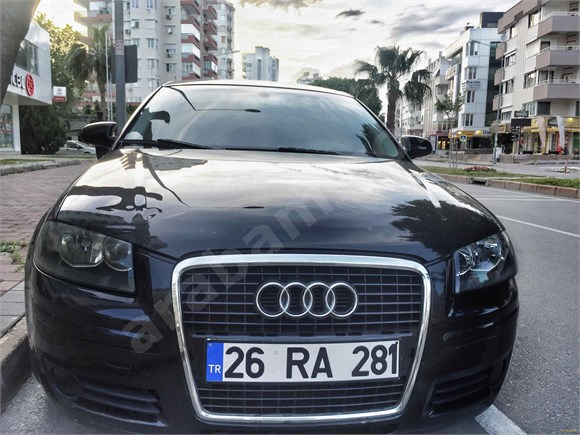audi: (248, 278, 370, 326)
